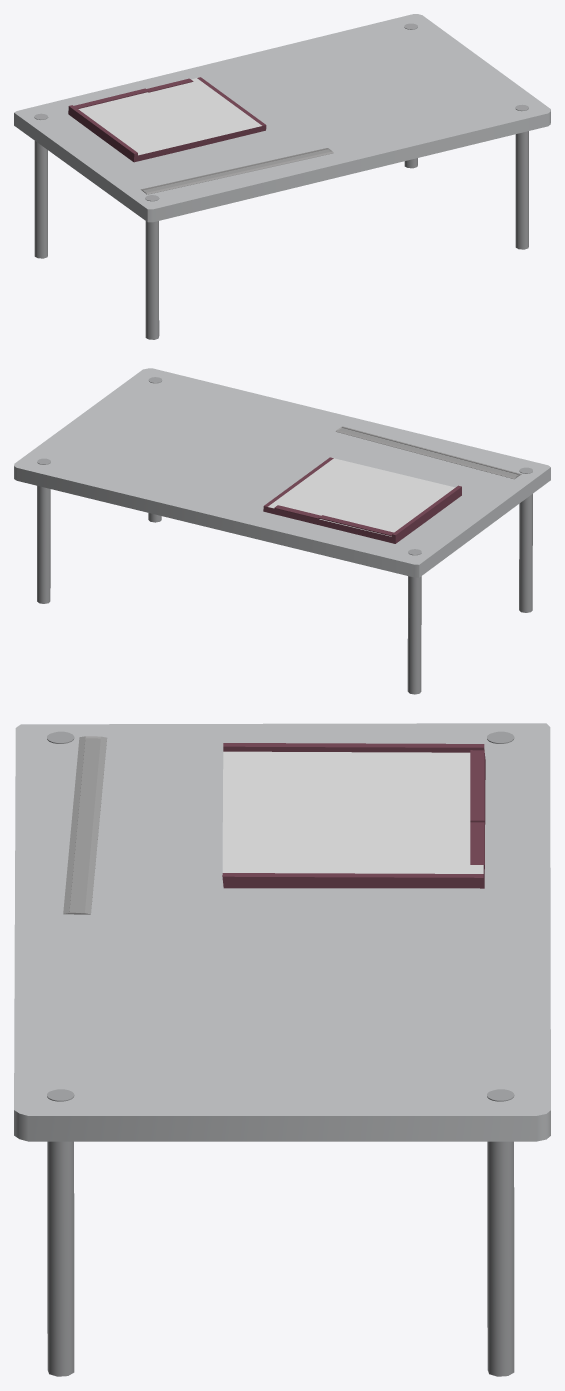
File: MesaCortadora.glb
3 renders of one model, top to bottom at view 1: azimuth 30°, elevation 25°; view 2: azimuth 150°, elevation 25°; view 3: azimuth 270°, elevation 25°, orthographic. The views are drawn at different scales.
Visible parts, largest first — view 1: mesa_Guillotina; view 2: mesa_Guillotina; view 3: mesa_Guillotina.
Boxes of the visible parts, <box> form: mesa_Guillotina: <box>14,14,550,339</box>; mesa_Guillotina: <box>14,368,550,694</box>; mesa_Guillotina: <box>14,723,550,1376</box>.
Size of the model in its own units: 4.44 by 1.54 by 2.57.
